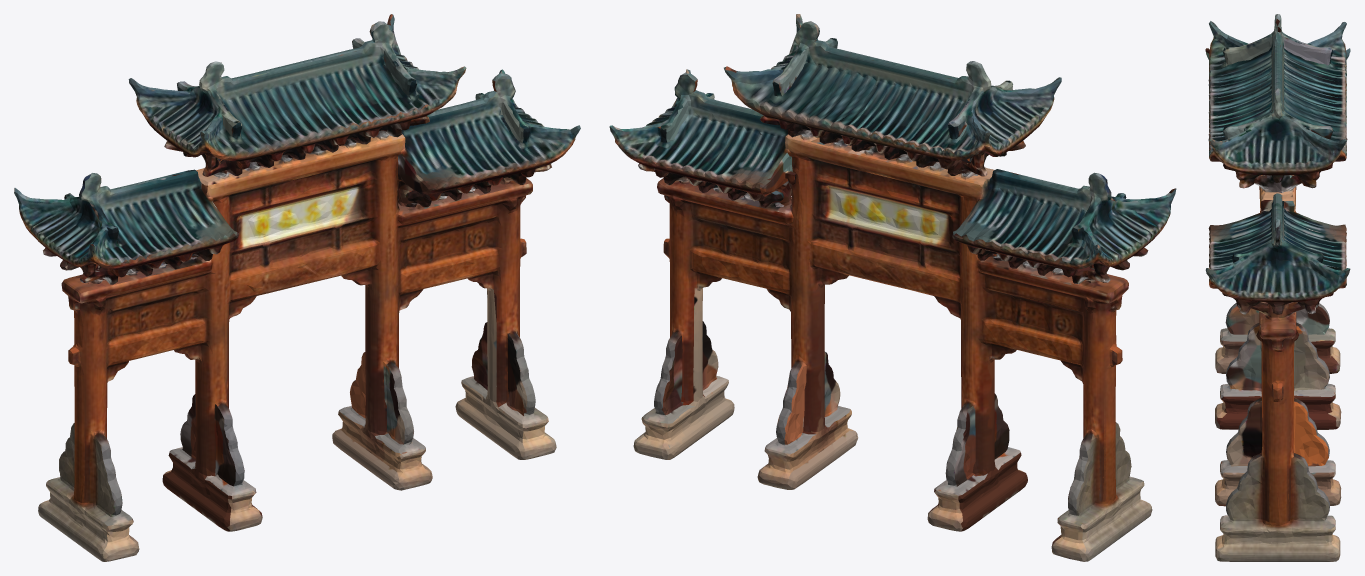
File: mdl_paifang_001.glb
3 renders of one model, left to right at view 1: azimuth 30°, elevation 25°; view 2: azimuth 150°, elevation 25°; view 3: azimuth 270°, elevation 25°, orthographic. The views are drawn at different scales.
Parts seen in each view (by area): view 1: tmpo7yo5sdu.ply; view 2: tmpo7yo5sdu.ply; view 3: tmpo7yo5sdu.ply.
Boxes of the visible parts, bbox=[...] form: tmpo7yo5sdu.ply: bbox=[14, 14, 580, 561]; tmpo7yo5sdu.ply: bbox=[609, 14, 1176, 561]; tmpo7yo5sdu.ply: bbox=[1205, 14, 1350, 561].
Bounding box in the file's own units: 0.9939 × 0.8539 × 0.2743.
Materials: 1 (1 with a texture image).
